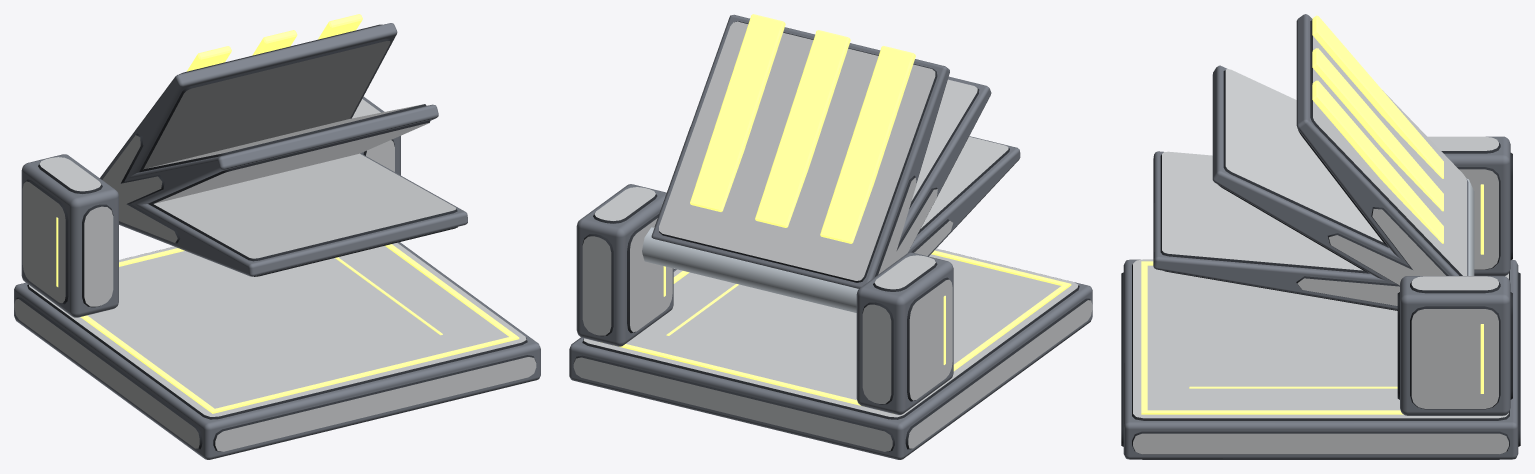
The model's file is R4X_RampDeployer.fbx.
The picture shows the model from 3 angles, left to right: view 1: azimuth 30°, elevation 25°; view 2: azimuth 150°, elevation 25°; view 3: azimuth 270°, elevation 25°; orthographic projection. The views are drawn at different scales.
Visible parts, largest first — view 1: R4X_RampDeployer_Body; view 2: R4X_RampDeployer_Body; view 3: R4X_RampDeployer_Body.
Boxes of the visible parts, x1,y1,x2,y2 form: R4X_RampDeployer_Body: (14, 14, 540, 459); R4X_RampDeployer_Body: (569, 14, 1092, 459); R4X_RampDeployer_Body: (1121, 14, 1520, 459).
Size of the model in its own units: 0.52 by 0.4673 by 0.52.
